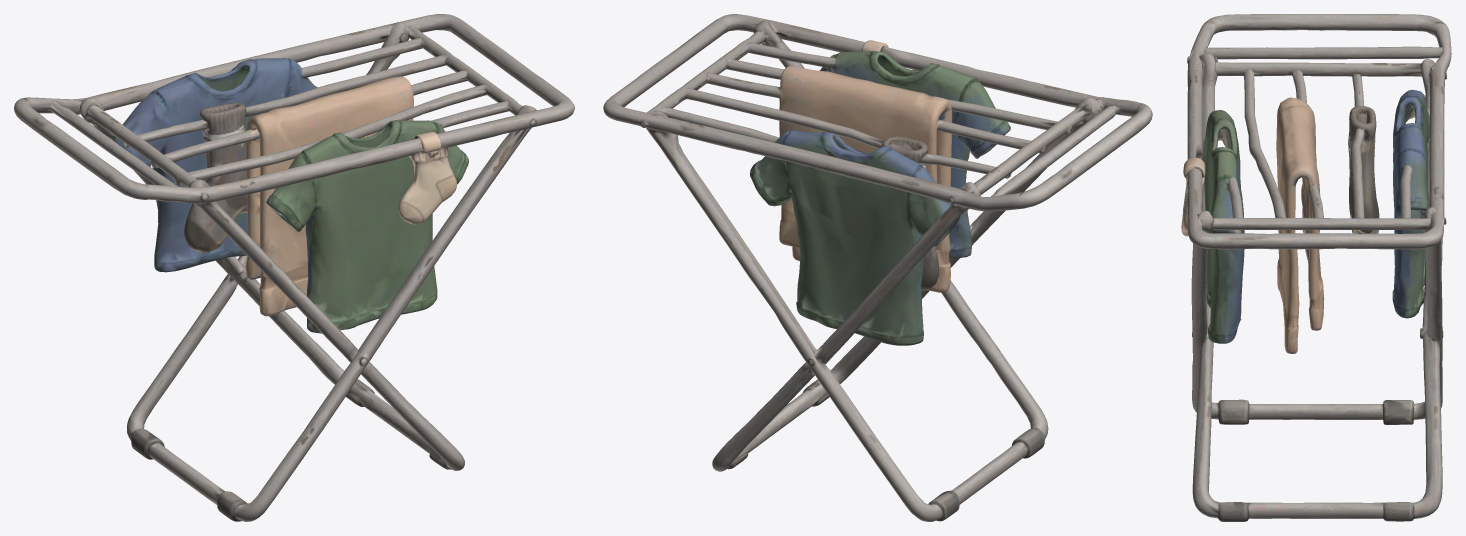
File: drying_rack.glb
3 renders of one model, left to right at view 1: azimuth 30°, elevation 25°; view 2: azimuth 150°, elevation 25°; view 3: azimuth 270°, elevation 25°, orthographic. The views are drawn at different scales.
Bounding box in the file's own units: 1.9 × 1.5 × 1.04.
1 material, 1 textured.
